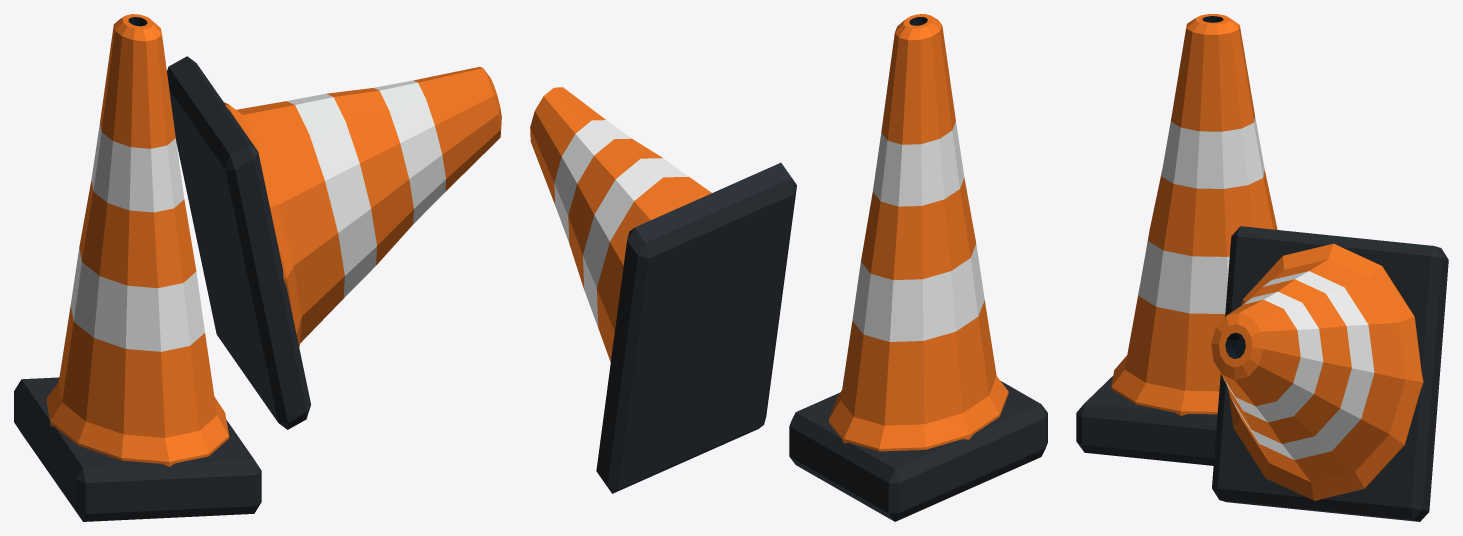
Rendered from traffic_hazard_cones.fbx.
The picture shows the model from 3 angles, left to right: view 1: azimuth 30°, elevation 25°; view 2: azimuth 150°, elevation 25°; view 3: azimuth 270°, elevation 25°; orthographic projection. The views are drawn at different scales.
Visible parts, largest first — view 1: traffic_hazard_cones; view 2: traffic_hazard_cones; view 3: traffic_hazard_cones.
Part boxes in pixels (x1,y1,x2,y2): traffic_hazard_cones: (14,14,501,521); traffic_hazard_cones: (530,14,1047,521); traffic_hazard_cones: (1076,14,1448,521).
Bounding box in the file's own units: 240 × 220 × 180.
